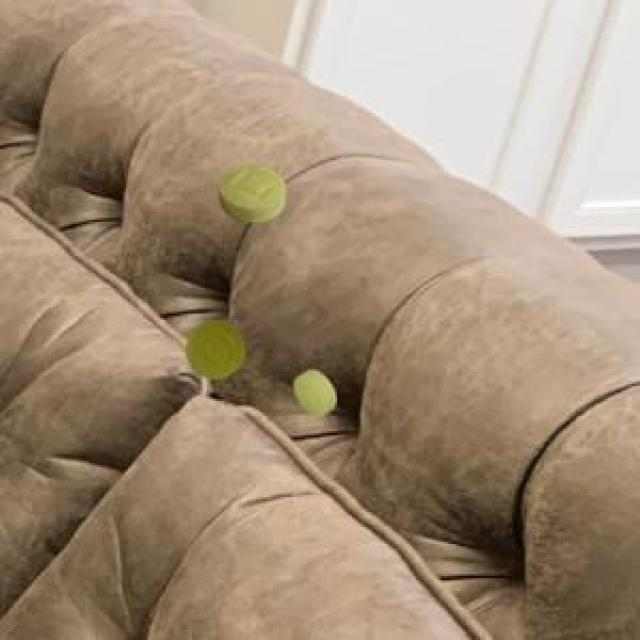Decolgen: (207, 150, 294, 237), (175, 304, 258, 390), (282, 358, 342, 422)
